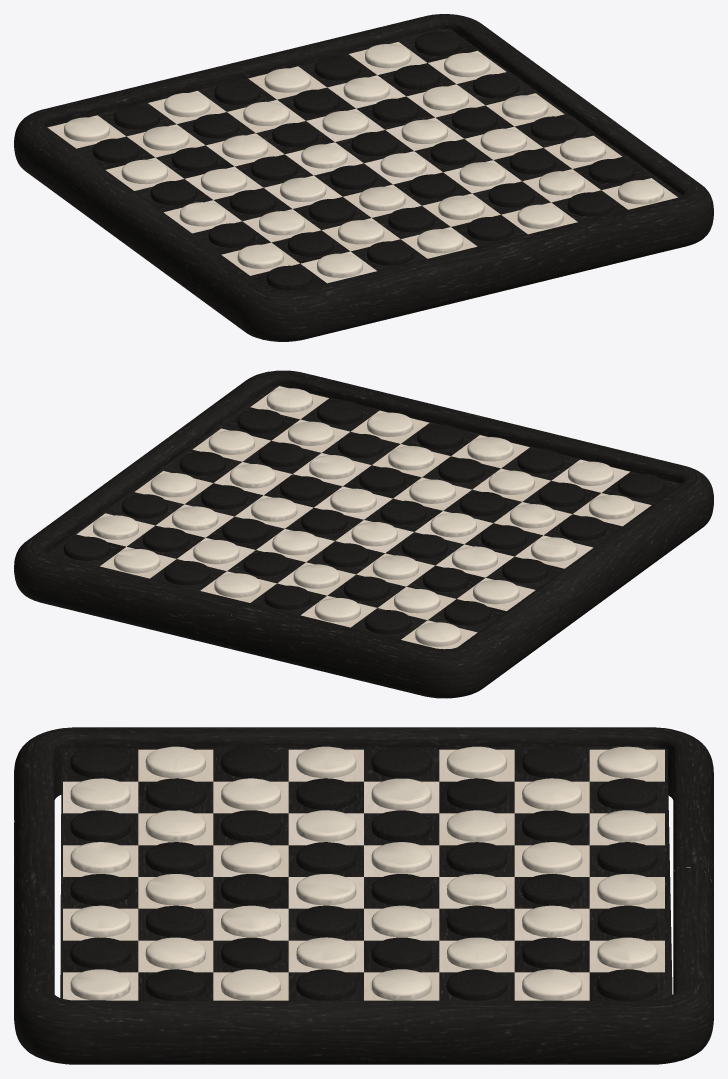
File: board.glb
The picture shows the model from 3 angles, top to bottom: view 1: azimuth 30°, elevation 25°; view 2: azimuth 150°, elevation 25°; view 3: azimuth 270°, elevation 25°; orthographic projection. The views are drawn at different scales.
Parts seen in each view (by area): view 1: Frame, PadsDark, PadsLight, SquaresDark, SquaresLight; view 2: Frame, PadsLight, PadsDark, SquaresDark, SquaresLight; view 3: Frame, PadsLight, PadsDark, SquaresDark, SquaresLight.
Part boxes in pixels (box(x1,y1,x2,y2)): Frame: box(14, 14, 713, 341); PadsDark: box(92, 31, 634, 290); PadsLight: box(64, 44, 664, 277); SquaresDark: box(46, 29, 681, 292); SquaresLight: box(47, 42, 677, 283); Frame: box(14, 370, 713, 698); PadsLight: box(93, 388, 635, 646); PadsDark: box(64, 400, 664, 634); SquaresDark: box(48, 385, 681, 646); SquaresLight: box(76, 386, 651, 649); Frame: box(14, 727, 713, 1064); PadsLight: box(70, 746, 657, 1000); PadsDark: box(70, 746, 657, 1000); SquaresDark: box(60, 746, 672, 1000); SquaresLight: box(63, 749, 664, 1000).
Bounding box in the file's own units: 9.3 × 0.814 × 9.3.
Materials: 4 (4 with a texture image).
